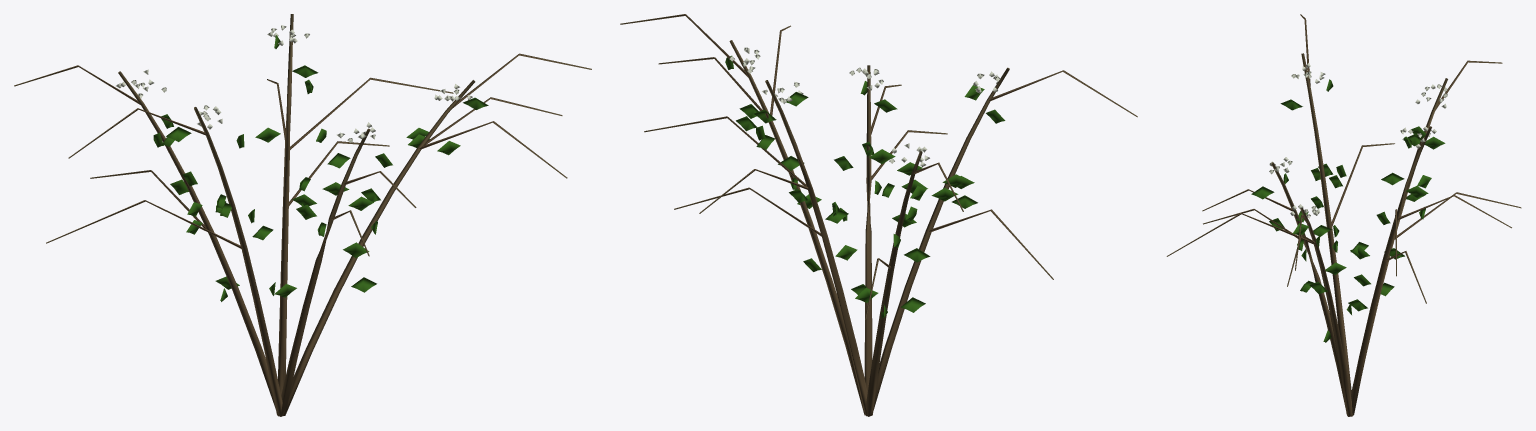
File: Shrub_Elderberry.glb
3 renders of one model, left to right at view 1: azimuth 30°, elevation 25°; view 2: azimuth 150°, elevation 25°; view 3: azimuth 270°, elevation 25°, orthographic. The views are drawn at different scales.
Parts seen in each view (by area): view 1: Shrub_Elderberry; view 2: Shrub_Elderberry; view 3: Shrub_Elderberry.
Boxes of the visible parts, x1,y1,x2,y2 form: Shrub_Elderberry: (14,14,591,416); Shrub_Elderberry: (620,14,1137,416); Shrub_Elderberry: (1166,14,1521,416).
Size of the model in its own units: 3.29 by 2.22 by 2.2.
